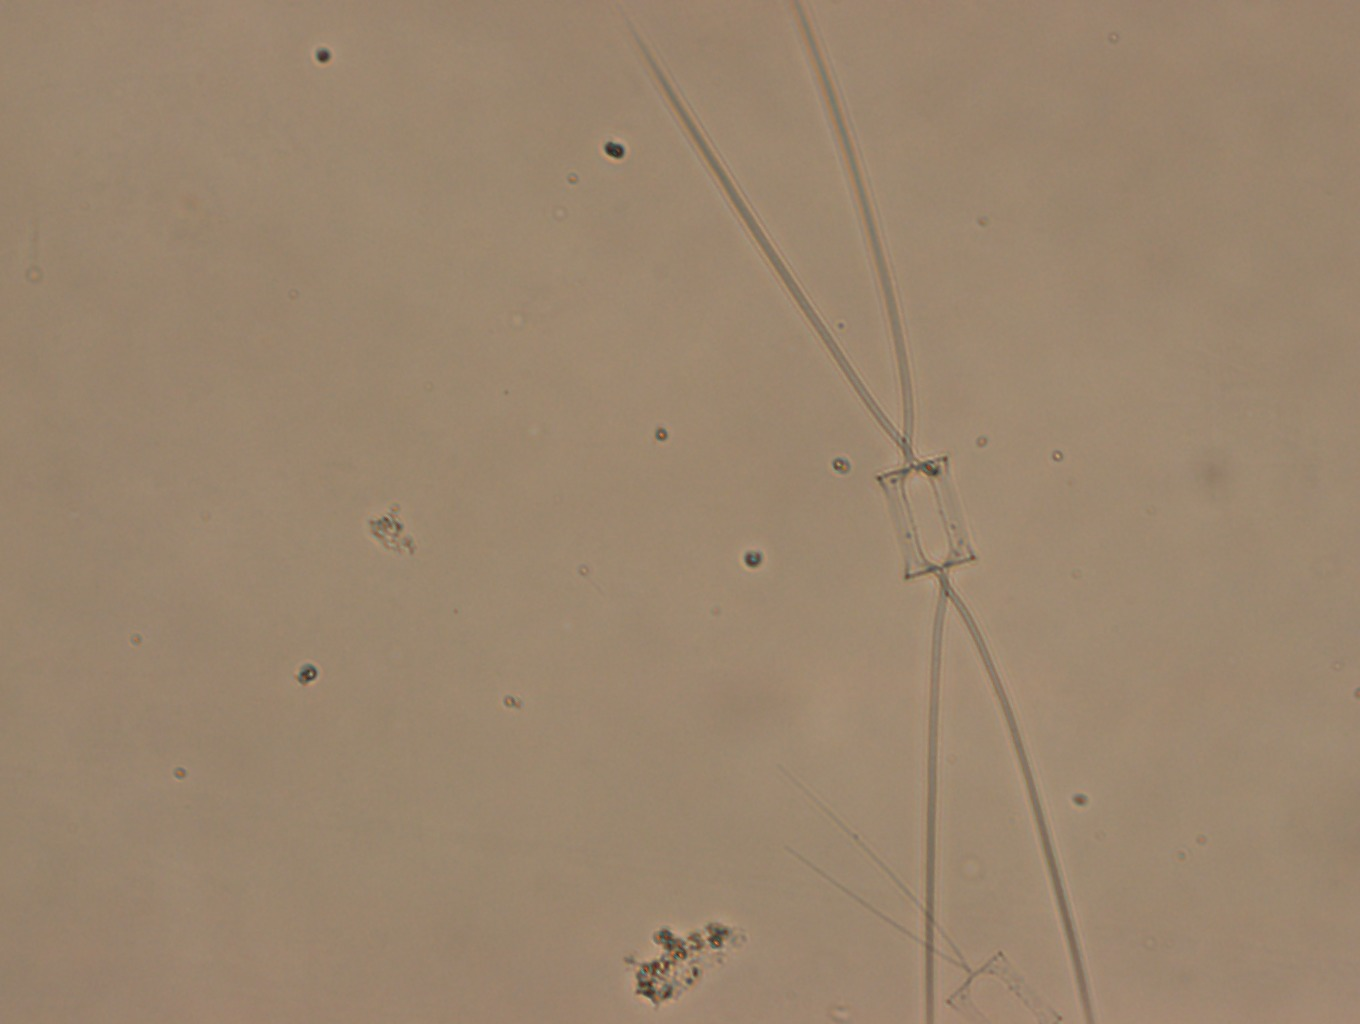chaetoceros: (616, 3, 1097, 1024), (776, 763, 1066, 1024)
